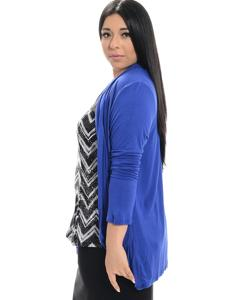S_cardigan sweater: (76, 70, 185, 286)
